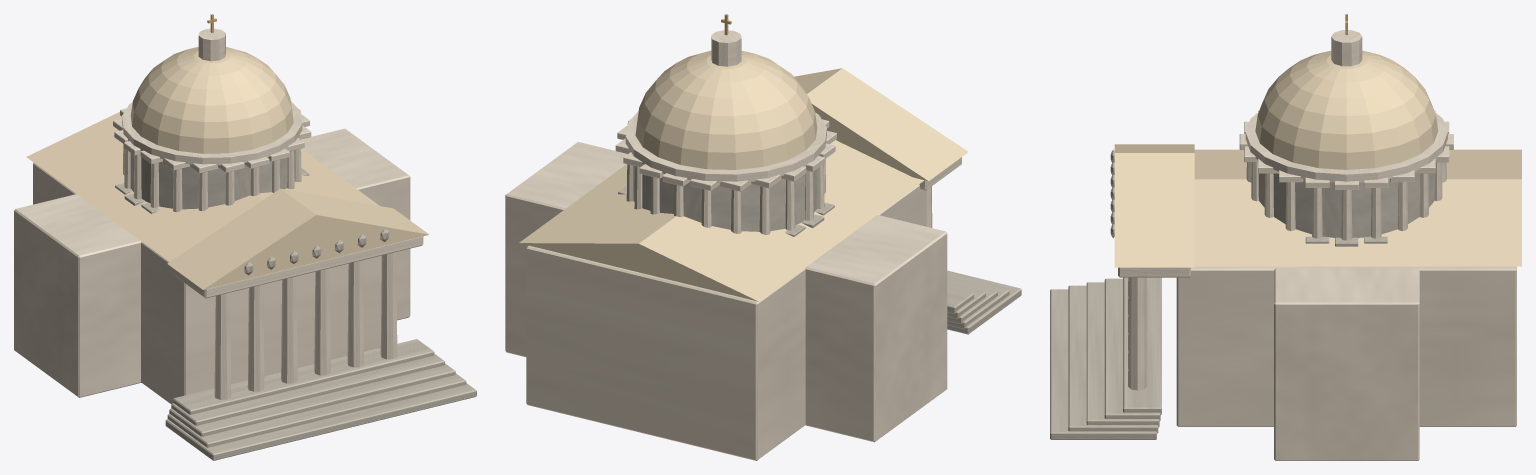
The model's file is pantheon-paris.glb.
3 renders of one model, left to right at view 1: azimuth 30°, elevation 25°; view 2: azimuth 150°, elevation 25°; view 3: azimuth 270°, elevation 25°, orthographic. The views are drawn at different scales.
Parts seen in each view (by area): view 1: pantheon-paris; view 2: pantheon-paris; view 3: pantheon-paris.
Boxes of the visible parts, <box> form: pantheon-paris: <box>14,14,476,460</box>; pantheon-paris: <box>505,14,1021,460</box>; pantheon-paris: <box>1050,14,1521,460</box>.
Size of the model in its own units: 8.8 by 8.09 by 9.7.
Materials: 1 (1 with a texture image).
